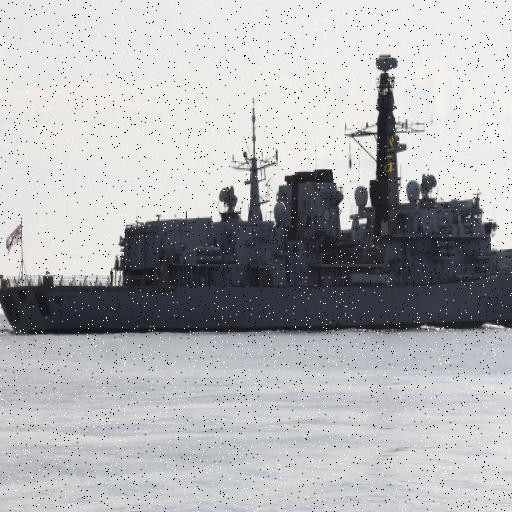Fragata: (1, 50, 512, 341)
